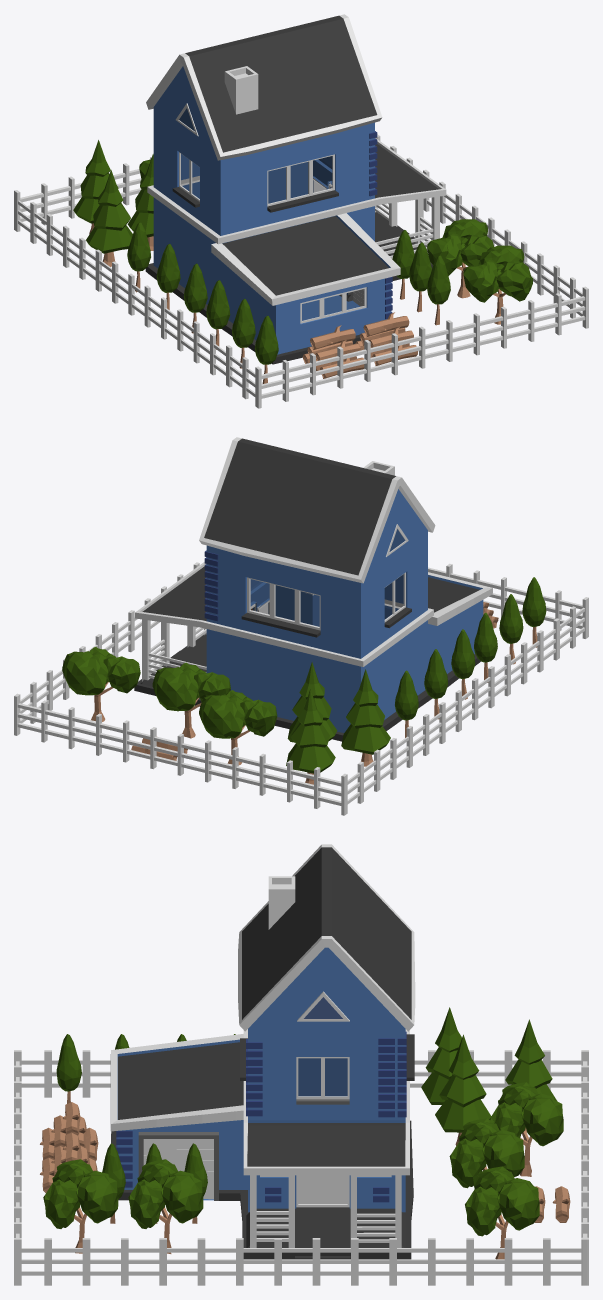
Rendered from z.019_lev3.glb.
3 views of the same model, one above another, from view 1: azimuth 30°, elevation 25°; view 2: azimuth 150°, elevation 25°; view 3: azimuth 270°, elevation 25° (orthographic). The views are drawn at different scales.
Parts seen in each view (by area): view 1: z.019_lev3; view 2: z.019_lev3; view 3: z.019_lev3.
Part boxes in pixels (x1,y1,x2,y2): z.019_lev3: (14, 14, 588, 408); z.019_lev3: (14, 437, 588, 815); z.019_lev3: (14, 844, 588, 1285).
Size of the model in its own units: 8.97 by 6.26 by 11.49.
Materials: 12 (1 with a texture image).
